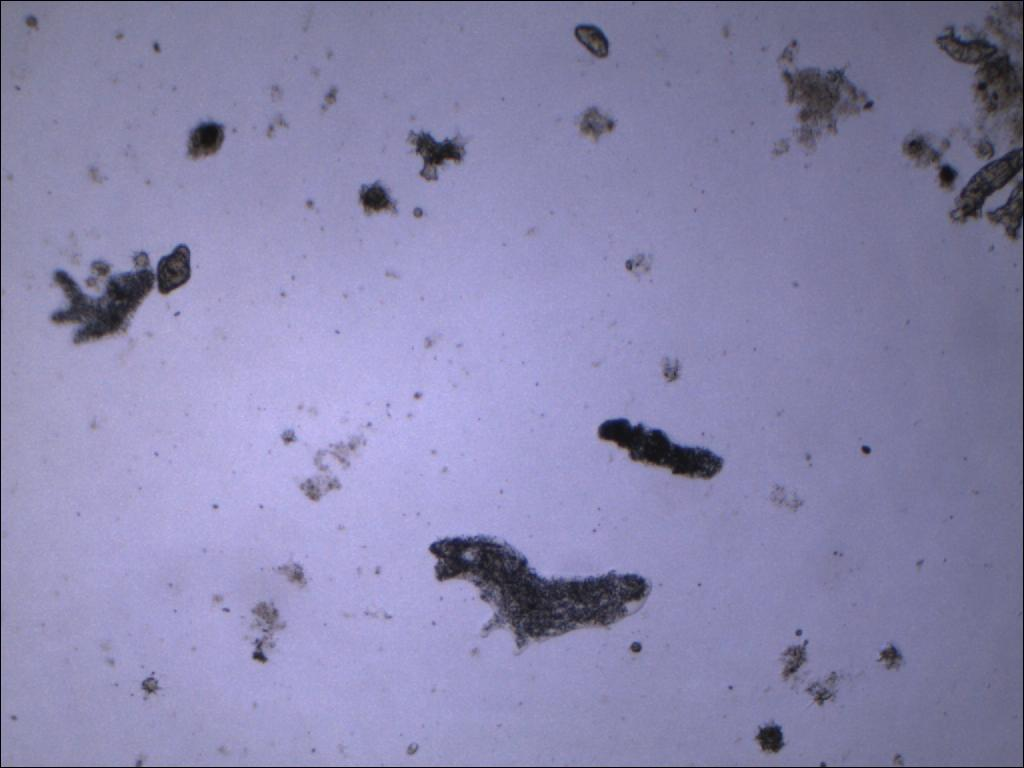amoeba: (419, 526, 655, 660), (42, 258, 161, 352), (587, 409, 729, 487)
